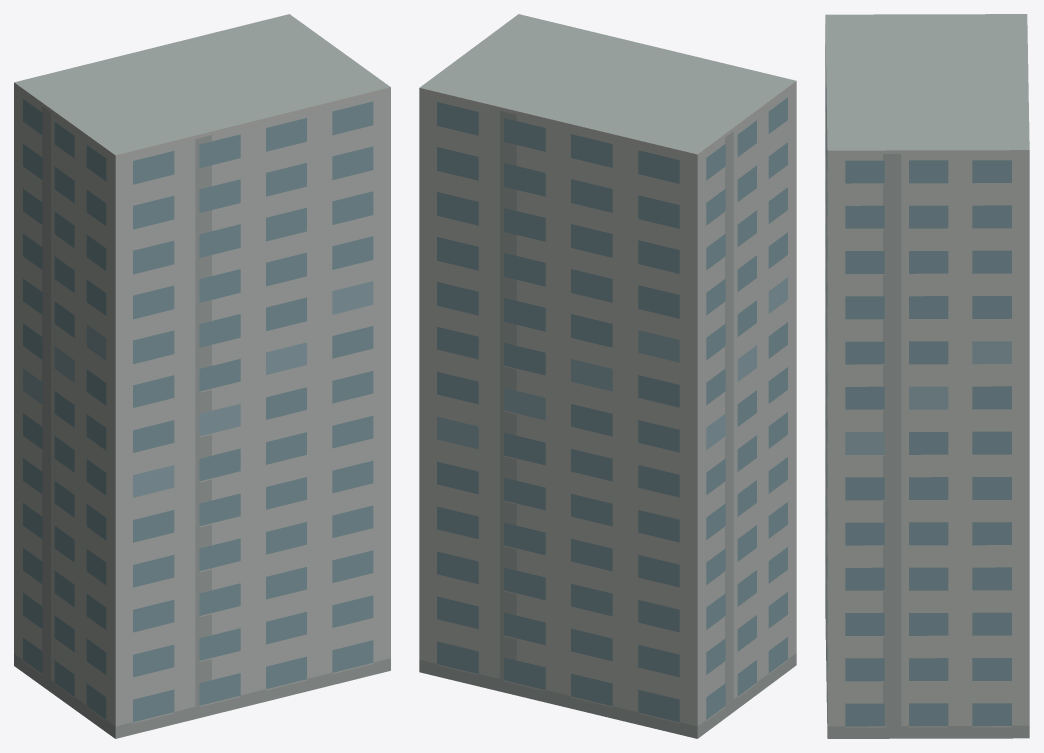
The model's file is residential-d1a3d502-282b-4f97-bdd9-a87e74c5c0d9.glb.
The picture shows the model from 3 angles, left to right: view 1: azimuth 30°, elevation 25°; view 2: azimuth 150°, elevation 25°; view 3: azimuth 270°, elevation 25°; orthographic projection.
Visible parts, largest first — view 1: residential-d1a3d502-282b-4f97-bdd9-a87e74c5c0d9.tmp; view 2: residential-d1a3d502-282b-4f97-bdd9-a87e74c5c0d9.tmp; view 3: residential-d1a3d502-282b-4f97-bdd9-a87e74c5c0d9.tmp.
Part boxes in pixels (x1=…): residential-d1a3d502-282b-4f97-bdd9-a87e74c5c0d9.tmp: x1=14, y1=14, x2=390, y2=738; residential-d1a3d502-282b-4f97-bdd9-a87e74c5c0d9.tmp: x1=419, y1=14, x2=796, y2=738; residential-d1a3d502-282b-4f97-bdd9-a87e74c5c0d9.tmp: x1=825, y1=14, x2=1029, y2=738.
Bounding box in the file's own units: 19.93 × 40 × 12.6.
